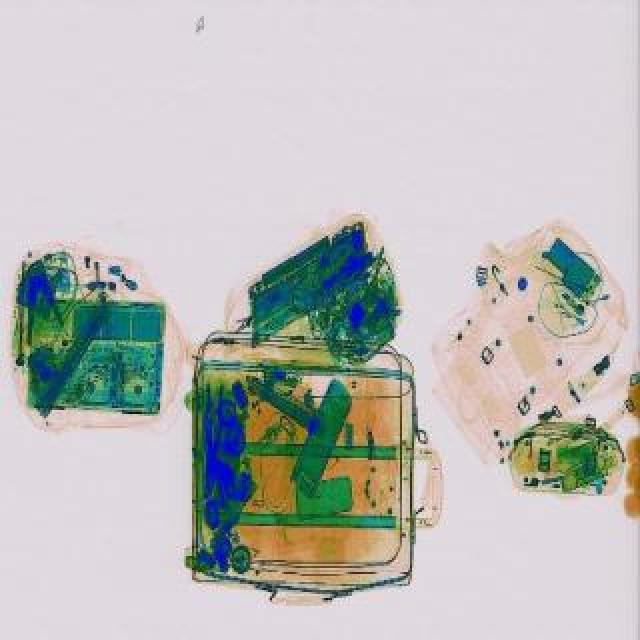wrench: (194, 382, 230, 500), (18, 260, 66, 346)
